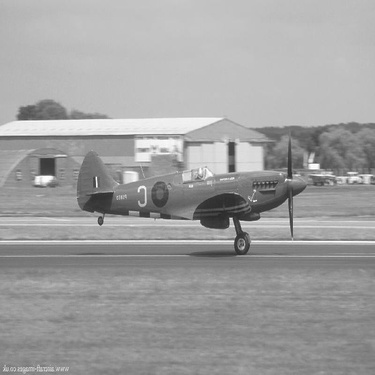airplane: (51, 134, 311, 257)
